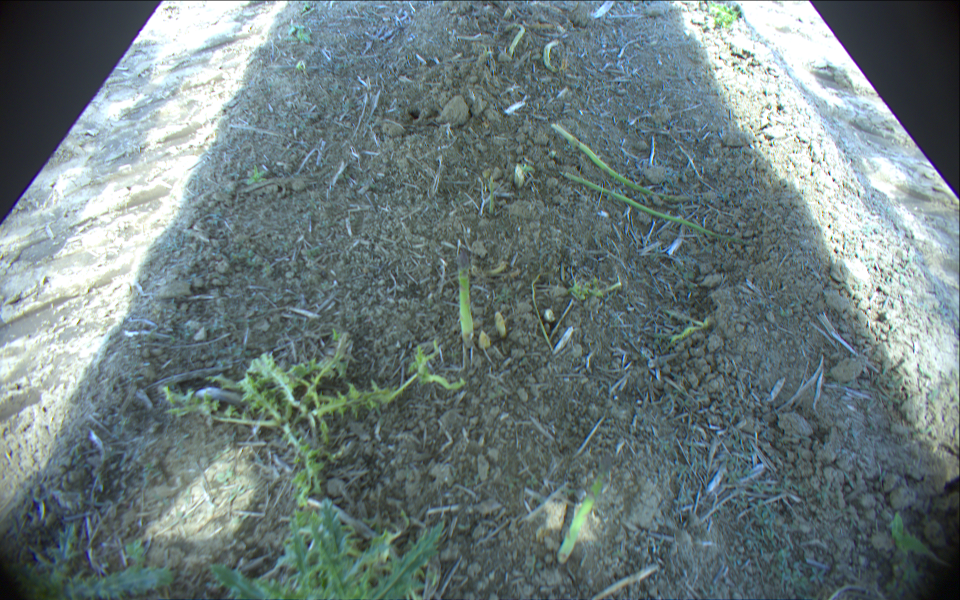aspa: (559, 171, 763, 245), (550, 124, 707, 200), (558, 458, 612, 561), (455, 248, 476, 352), (507, 22, 526, 55), (544, 39, 558, 72), (494, 310, 507, 343), (486, 176, 496, 212)
